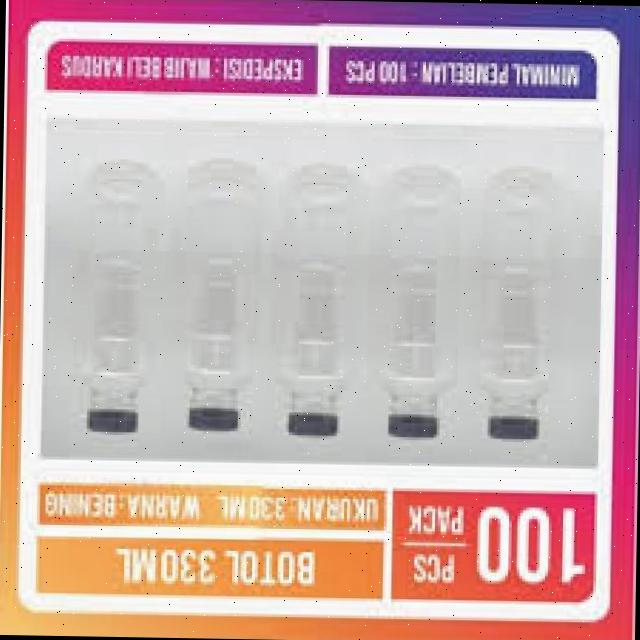bottle: (362, 164, 469, 442), (158, 158, 258, 438), (66, 150, 161, 435), (476, 164, 564, 445), (268, 158, 355, 442)
cap: (382, 410, 443, 440), (178, 404, 242, 432), (488, 412, 543, 441), (80, 408, 140, 433), (286, 413, 338, 440)
